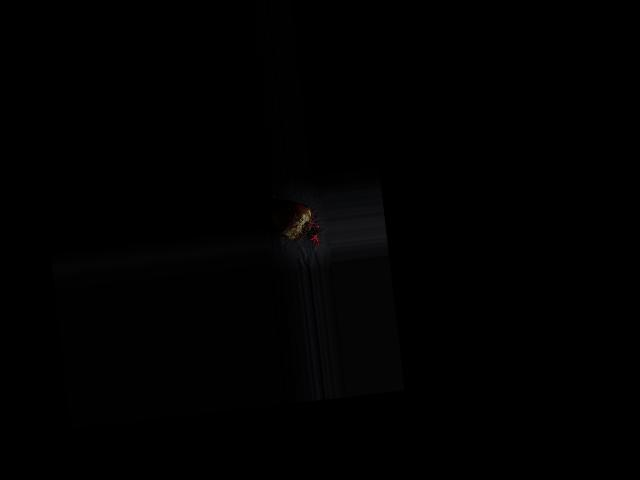beet: (266, 186, 323, 251)
